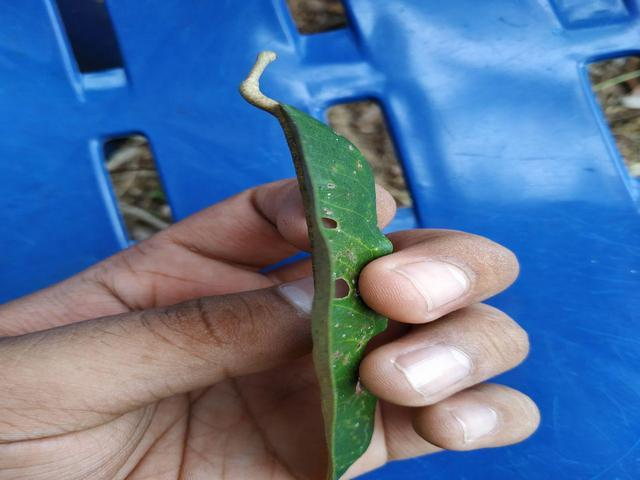Blight Spot: (295, 138, 349, 247), (314, 261, 355, 310)
